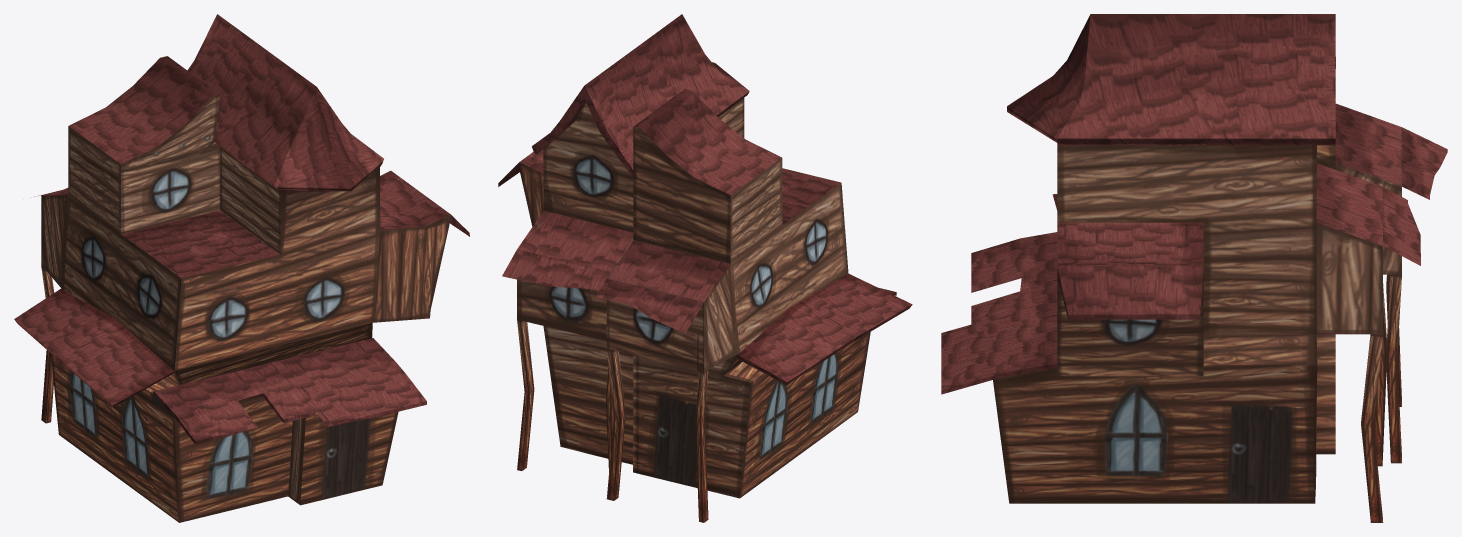
Rendered from House3_breakable.fbx.
3 views of the same model, side by side, from view 1: azimuth 30°, elevation 25°; view 2: azimuth 150°, elevation 25°; view 3: azimuth 270°, elevation 25° (orthographic). The views are drawn at different scales.
Parts seen in each view (by area): view 1: polySurface1; view 2: polySurface1; view 3: polySurface1.
Boxes of the visible parts, x1=… form: polySurface1: x1=14, y1=14, x2=469, y2=522; polySurface1: x1=498, y1=14, x2=912, y2=522; polySurface1: x1=941, y1=14, x2=1447, y2=522.
Size of the model in its own units: 1.57 by 1.61 by 1.54.
